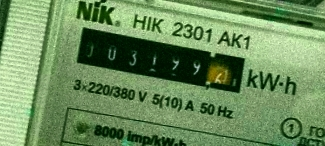0: (80, 36, 95, 59), (103, 40, 118, 61)
1: (147, 46, 160, 66)
3: (125, 46, 139, 66)
6: (212, 68, 224, 85)
9: (188, 55, 202, 76), (168, 50, 181, 72)
screen: (67, 21, 255, 101)
